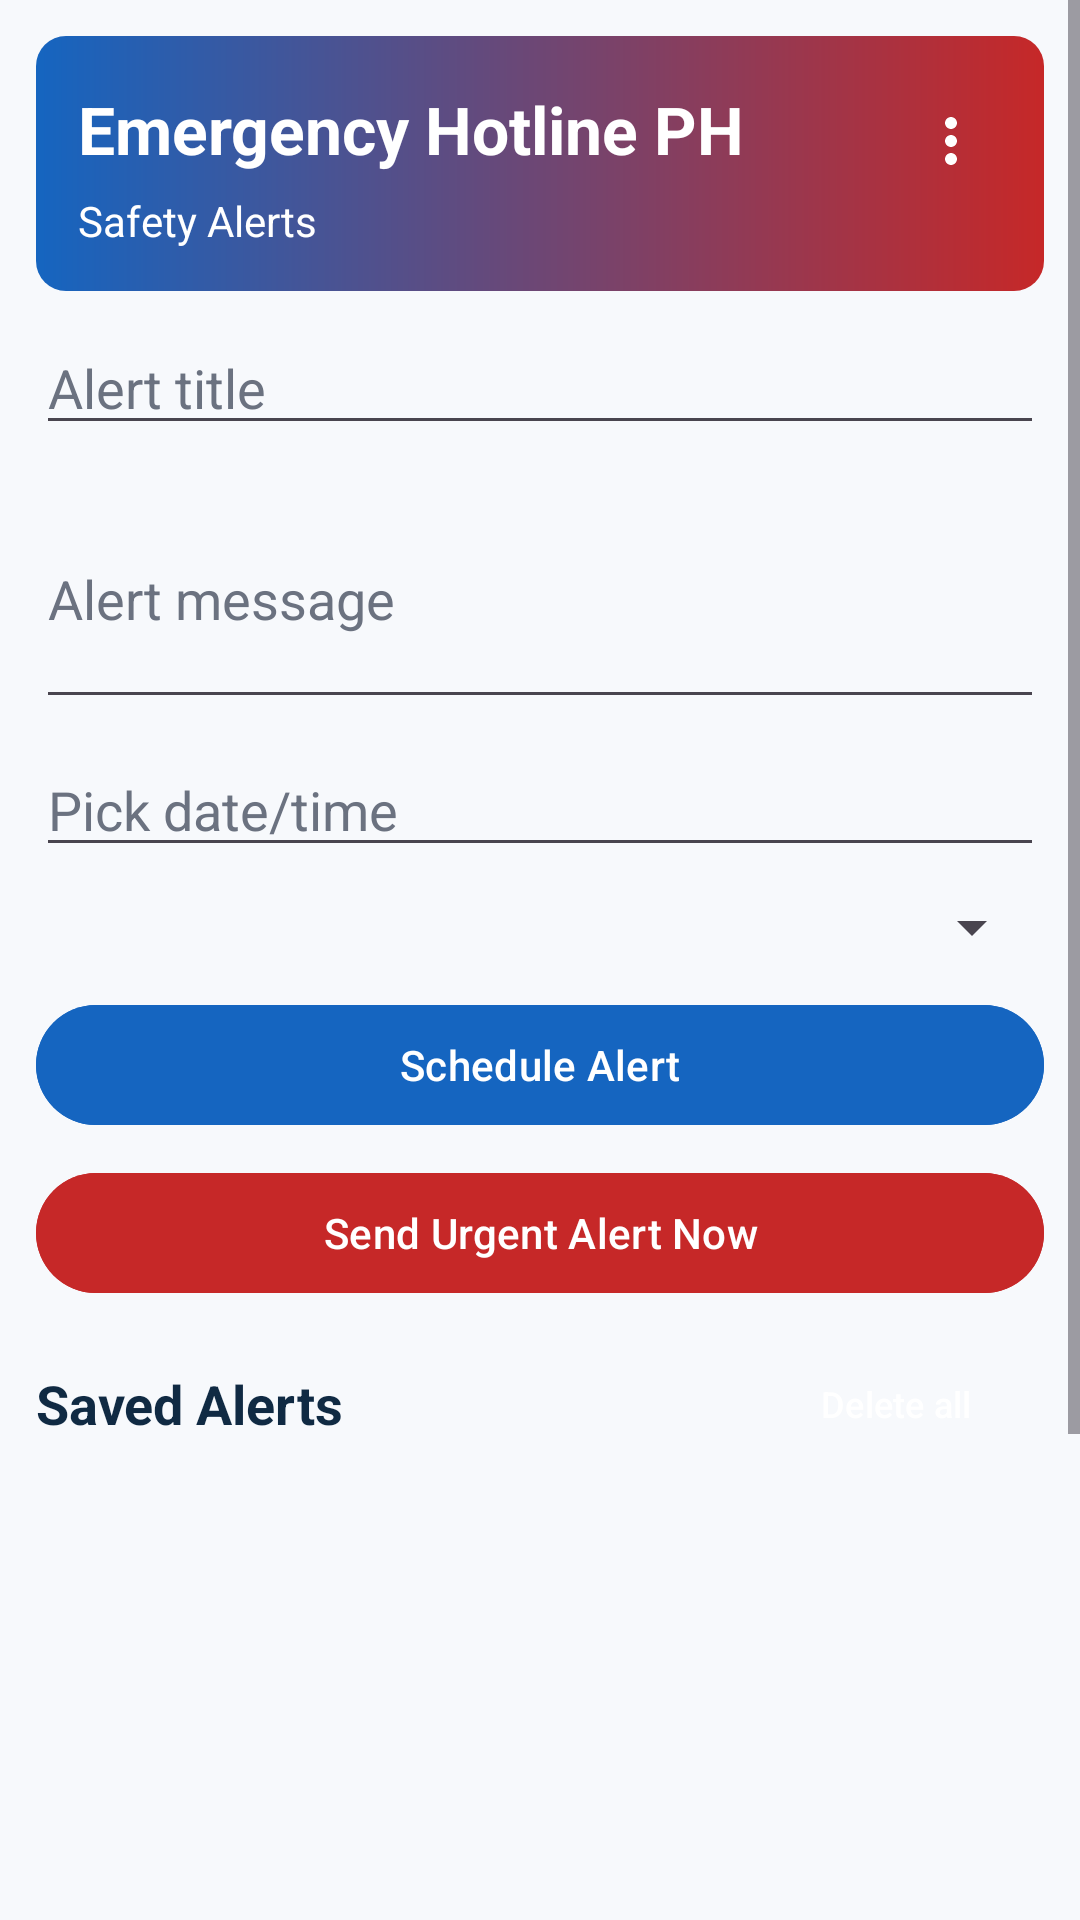

Point at icon controls on the screen. Image size 1080x1920, points as (x=x, y=y).
More options: (x=951, y=141)
